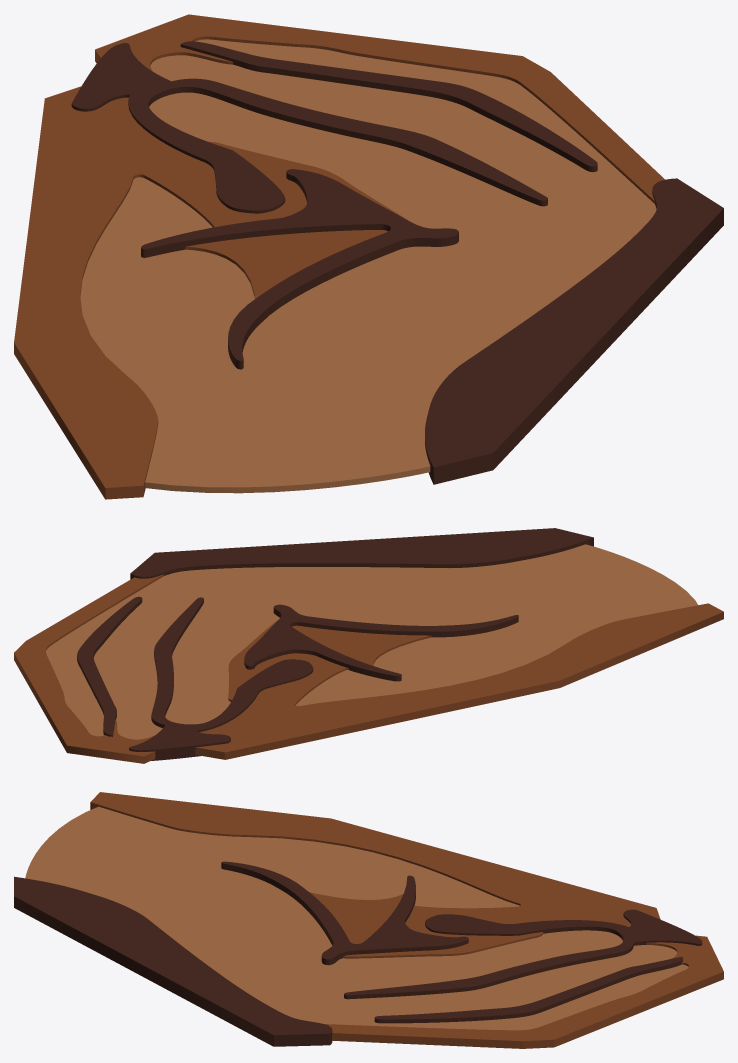
File: emoji_u1f90c_1f3fe.glb
The picture shows the model from 3 angles, top to bottom: view 1: azimuth 30°, elevation 25°; view 2: azimuth 150°, elevation 25°; view 3: azimuth 270°, elevation 25°; orthographic projection. The views are drawn at different scales.
Parts seen in each view (by area): view 1: emoji_u1f90c_1f3fe; view 2: emoji_u1f90c_1f3fe; view 3: emoji_u1f90c_1f3fe.
Part boxes in pixels (left/top/right/bottom): emoji_u1f90c_1f3fe: left=14, top=14, right=723, bottom=499; emoji_u1f90c_1f3fe: left=14, top=528, right=723, bottom=763; emoji_u1f90c_1f3fe: left=14, top=792, right=723, bottom=1048.
Size of the model in its own units: 0.0276 by 0.0008 by 0.0333.
